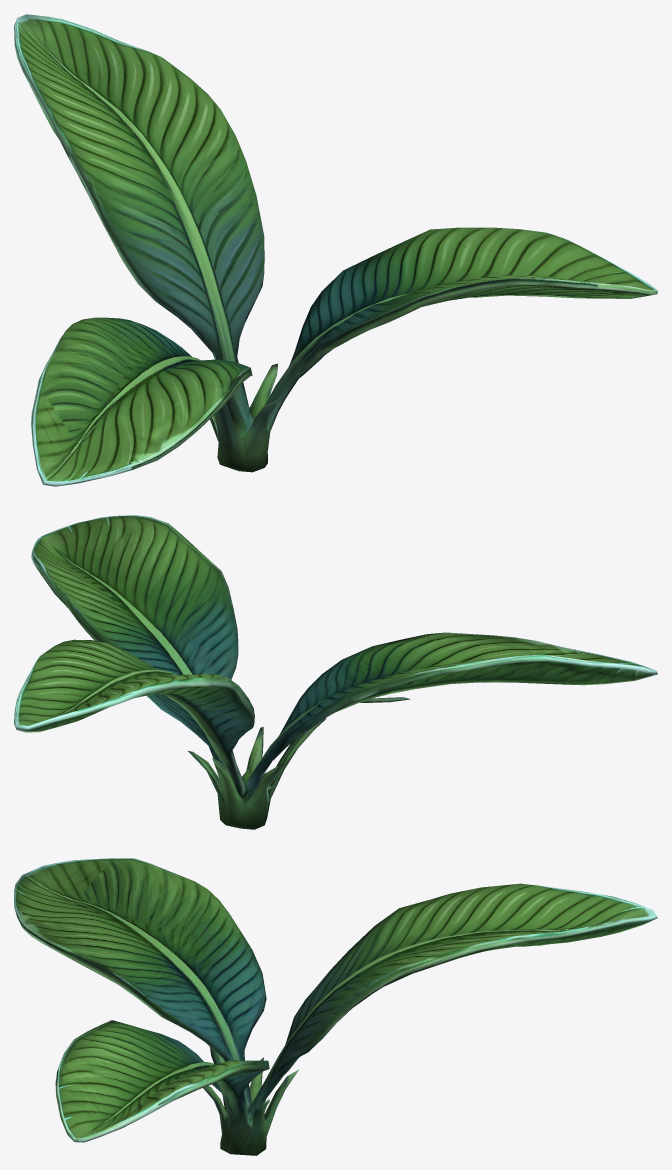
The picture shows the model from 3 angles, top to bottom: view 1: azimuth 30°, elevation 25°; view 2: azimuth 150°, elevation 25°; view 3: azimuth 270°, elevation 25°; orthographic projection. The views are drawn at different scales.
Parts seen in each view (by area): view 1: Mesh_0; view 2: Mesh_0; view 3: Mesh_0.
Boxes of the visible parts, left/top/right/bottom form: Mesh_0: left=14, top=14, right=657, bottom=486; Mesh_0: left=14, top=515, right=657, bottom=829; Mesh_0: left=14, top=858, right=657, bottom=1155.
Bounding box in the file's own units: 1.91 × 0.7935 × 1.88.
1 material, 1 textured.
